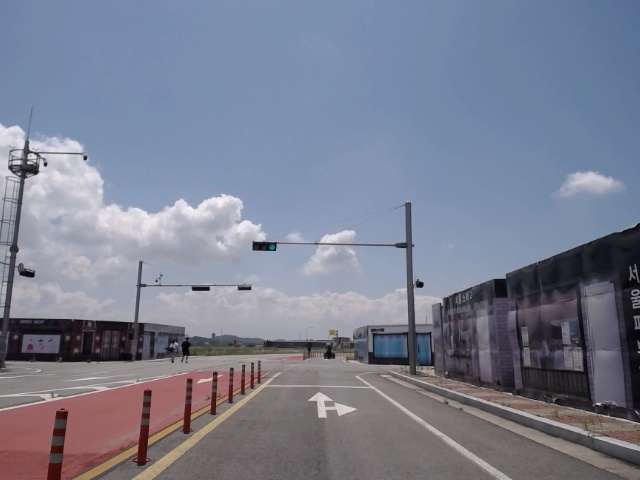green_3: (252, 241, 276, 251)
